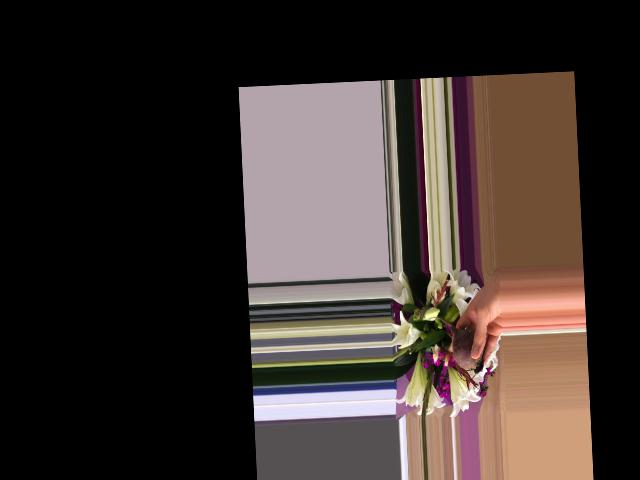beet: (429, 314, 485, 383)
